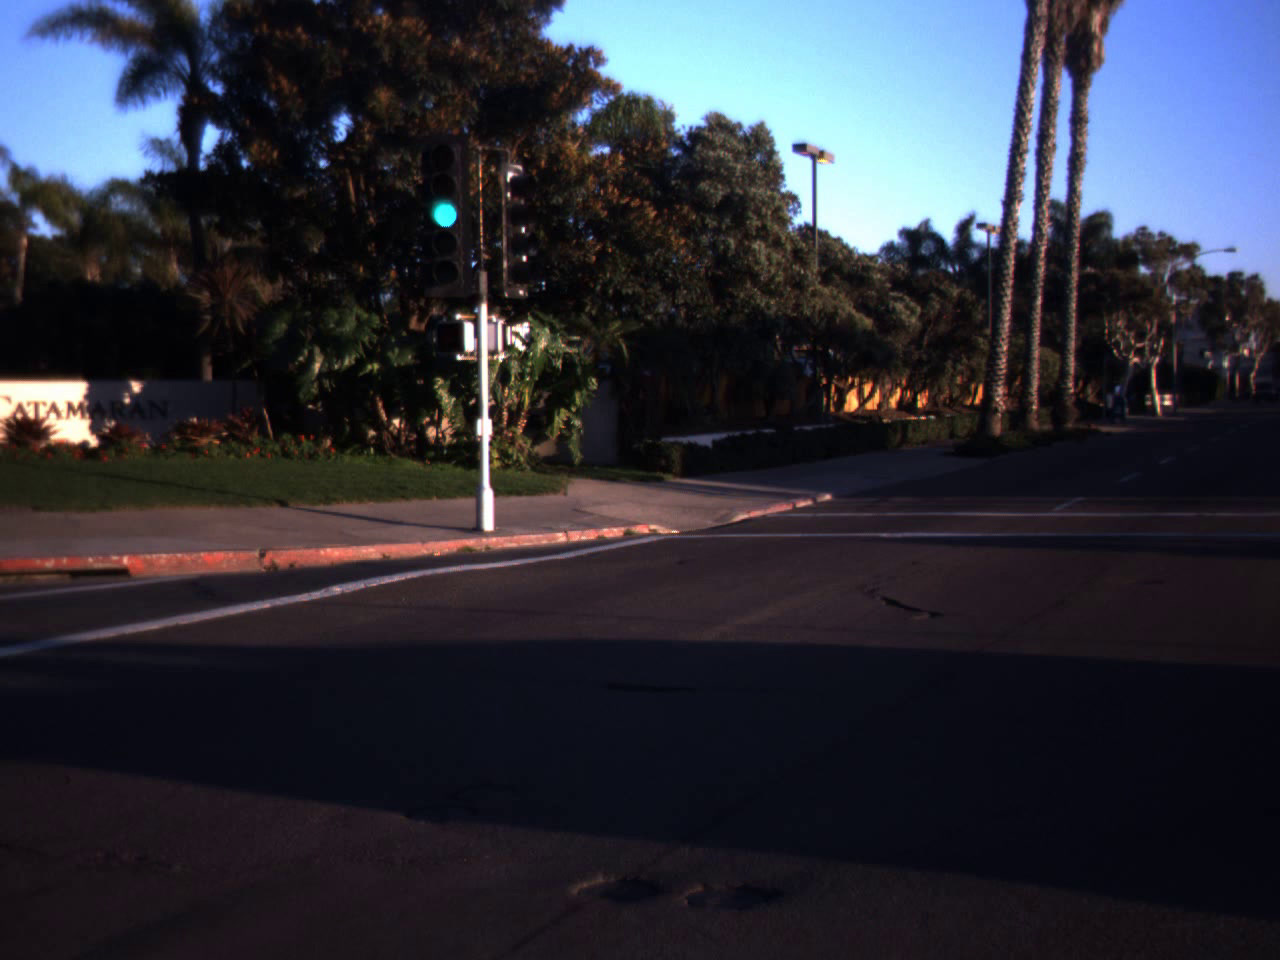go: (412, 123, 478, 238)
